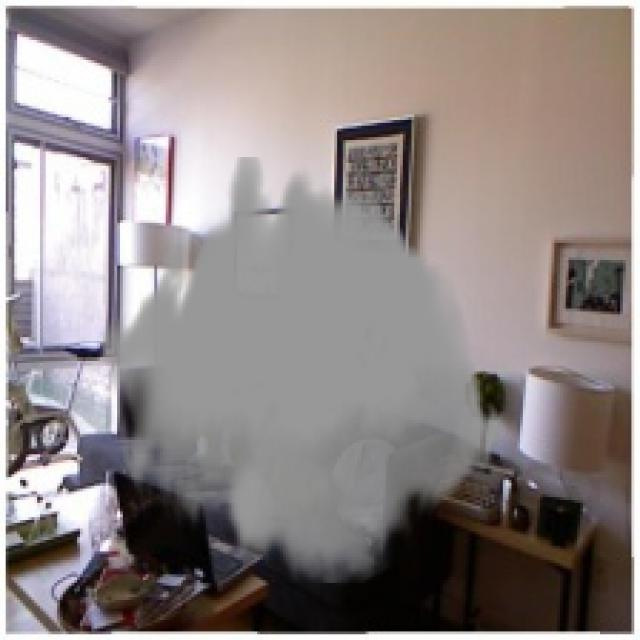smoke: (100, 157, 503, 583)
